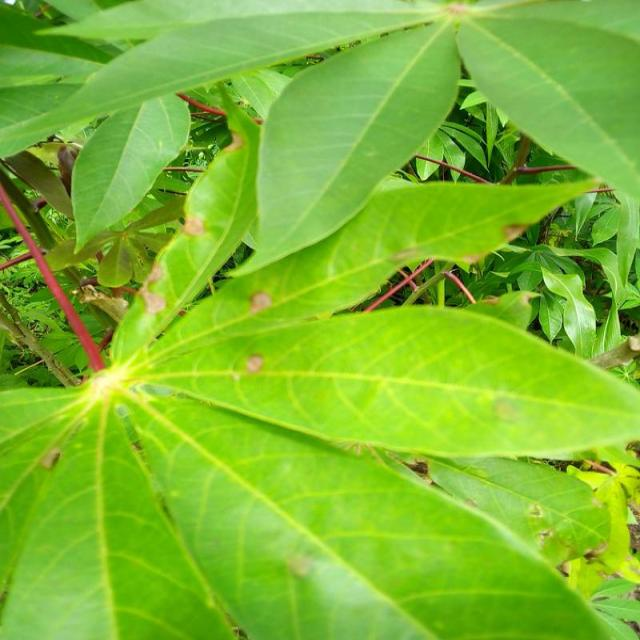cassava leaf: (2, 3, 639, 638), (243, 12, 463, 272)
